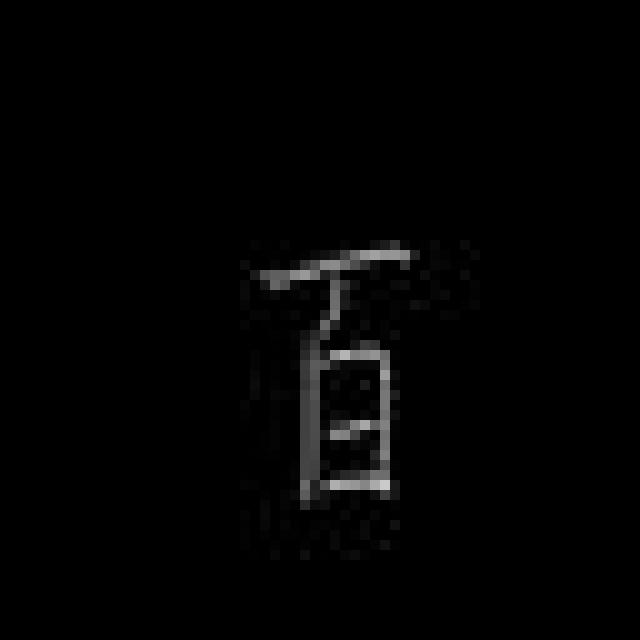100 -a hundred-: (253, 223, 415, 515)
